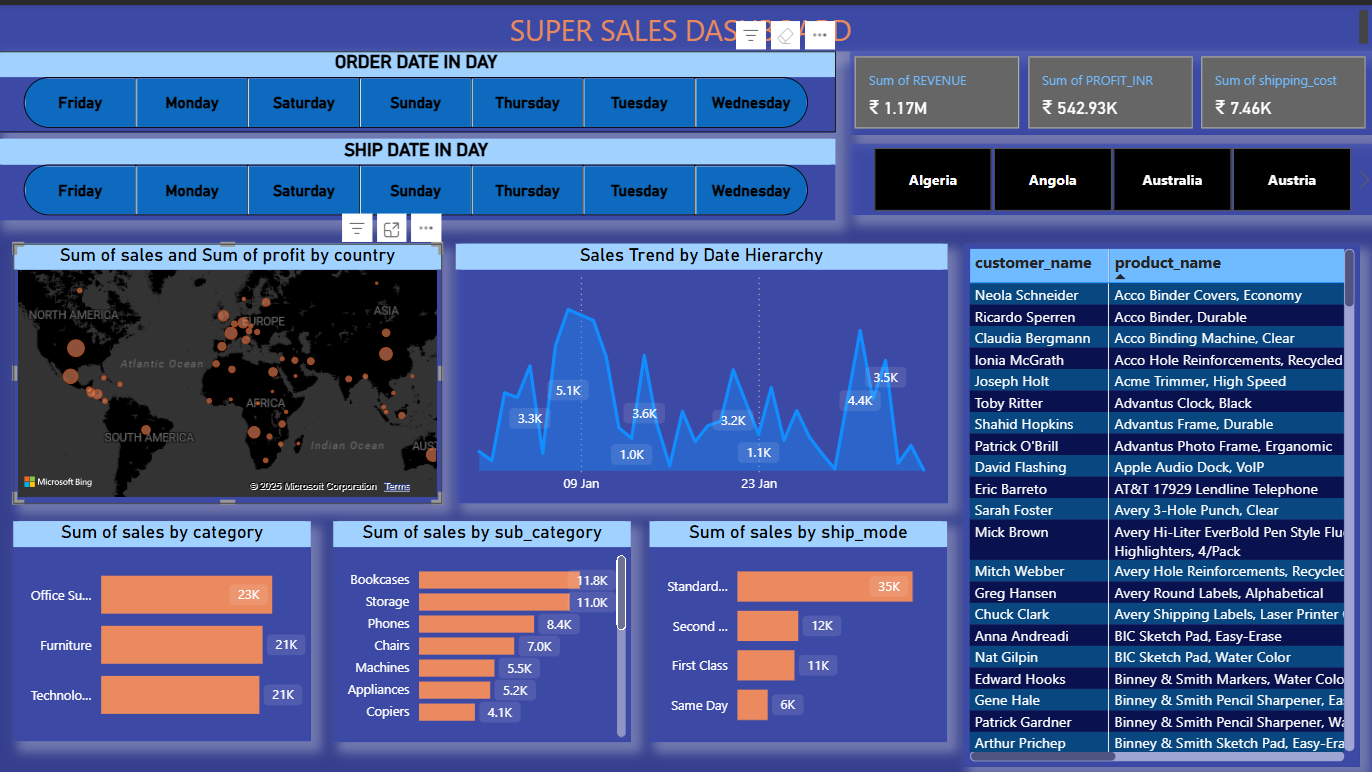

The page's visual inventory and layout, read from the dashboard file:
{"tool":"powerbi","page":{"name":"main_dasboard","canvas":[1280,720],"ordinal":0},"visuals":[{"type":"clusteredBarChart","title":"Sales based on category","fields":{"Y":["SuperStoreOrders (2).sales"],"Category":["SuperStoreOrders (2).category"]},"box":[15.1,480.3,277.2,205],"z":0},{"type":"clusteredBarChart","title":"Sales based on sub category","fields":{"Y":["SuperStoreOrders (2).sales"],"Category":["SuperStoreOrders (2).sub_category"]},"box":[312.9,480.3,277.2,205.8],"z":1000},{"type":"clusteredBarChart","title":"Sales based on shipmode","fields":{"Y":["SuperStoreOrders (2).sales"],"Category":["SuperStoreOrders (2).ship_mode"]},"box":[606.5,480.3,277.2,205.8],"z":2000},{"type":"textbox","box":[0,0,1280.2,43],"z":3000},{"type":"cardVisual","fields":{"Data":["SuperStoreOrders (2).REVENUE","SuperStoreOrders (2).PROFIT_INR","SuperStoreOrders (2).shipping_cost"]},"box":[792.5,42.5,487.5,77.5],"z":4000},{"type":"map","title":"Sales based on country","fields":{"Size":["SuperStoreOrders (2).sales"],"Category":["SuperStoreOrders (2).country"]},"box":[15,222.5,398.8,241.2],"z":5000},{"type":"stackedAreaChart","title":"Sales Trend by Date Hierarchy","fields":{"Y":["SuperStoreOrders (2).sales"],"Category":["SuperStoreOrders (2).order_date.Variation.Date Hierarchy.Year"]},"box":[426.2,222.5,457.5,241.2],"z":6000},{"type":"tableEx","fields":{"Values":["SuperStoreOrders (2).customer_name","SuperStoreOrders (2).product_name","SuperStoreOrders (2).order_date.Variation.Date Hierarchy.Year","SuperStoreOrders (2).ship_date.Variation.Date Hierarchy.Year"]},"box":[898.8,222.5,368.8,486.2],"z":7000},{"type":"slicer","fields":{"Values":["SuperStoreOrders (2).country"]},"box":[792.5,128.8,487.5,66.2],"z":8000},{"type":"advancedSlicerVisual","title":"ORDER DATE IN DAY ","fields":{"Values":["SuperStoreOrders (2).ORDER DATE IN DAY"]},"box":[0,42.5,780,76.2],"z":9000},{"type":"advancedSlicerVisual","title":"SHIP DATE IN DAY ","fields":{"Values":["SuperStoreOrders (2).SHIP DATE IN DAY"]},"box":[0,125,780,76.2],"z":10000}]}

Visuals, with their boxes on the page's 1280x720 design canvas (x1, y1, x2, y2). These are canvas units, not pixel positions in the 1372x772 screenshot, which may show the page scaled, cropped or inside an application window:
"Sales based on category" clusteredBarChart: left=15, top=480, right=292, bottom=685
"Sales based on sub category" clusteredBarChart: left=313, top=480, right=590, bottom=686
"Sales based on shipmode" clusteredBarChart: left=606, top=480, right=884, bottom=686
textbox: left=0, top=0, right=1280, bottom=43
cardVisual - SuperStoreOrders (2).REVENUE x SuperStoreOrders (2).PROFIT_INR: left=792, top=42, right=1280, bottom=120
"Sales based on country" map: left=15, top=222, right=414, bottom=464
"Sales Trend by Date Hierarchy" stackedAreaChart: left=426, top=222, right=884, bottom=464
tableEx - SuperStoreOrders (2).customer_name x SuperStoreOrders (2).product_name: left=899, top=222, right=1268, bottom=709
slicer - SuperStoreOrders (2).country: left=792, top=129, right=1280, bottom=195
"ORDER DATE IN DAY " advancedSlicerVisual: left=0, top=42, right=780, bottom=119
"SHIP DATE IN DAY " advancedSlicerVisual: left=0, top=125, right=780, bottom=201
